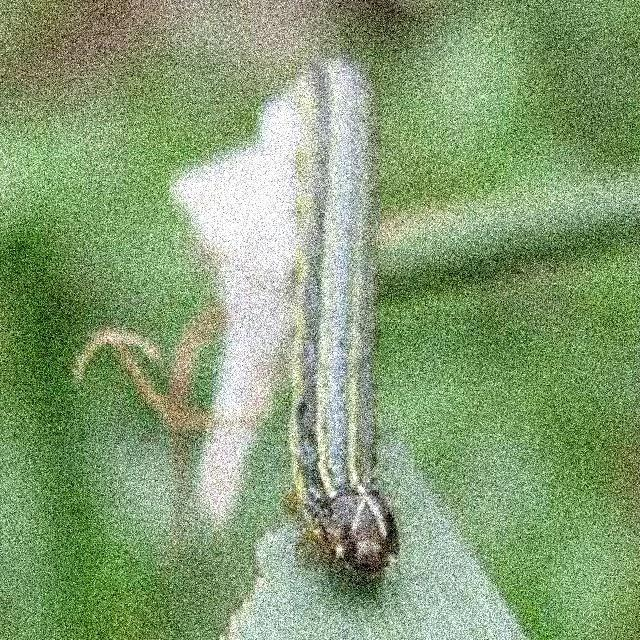Plaga: (306, 65, 396, 568)
